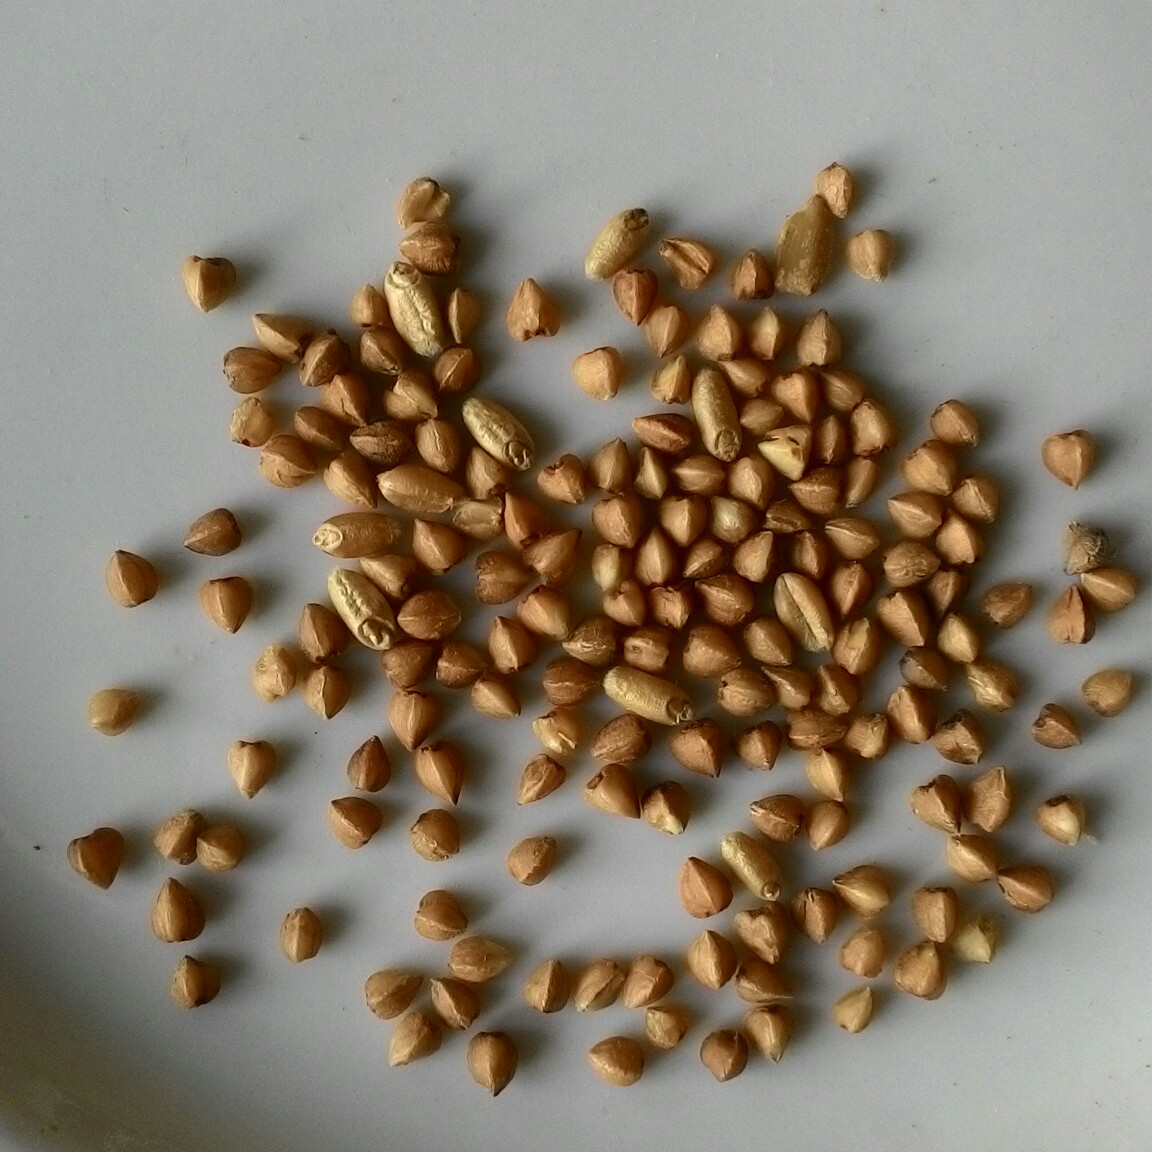semka: (765, 183, 844, 301)
wheat: (589, 650, 710, 737), (444, 386, 548, 480), (373, 249, 455, 362), (323, 556, 403, 663), (765, 562, 842, 666), (370, 455, 480, 526), (576, 200, 663, 290), (685, 362, 754, 469), (304, 504, 416, 567), (718, 822, 792, 916)
